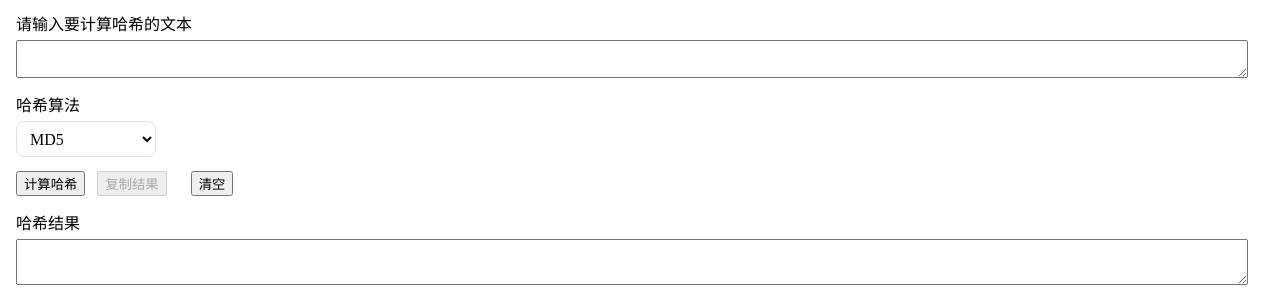
Scenario: developer and text tools › calculates a standard HMAC-MD5 vector
Type "abc" into the text box labelled "请输入要计算哈希的文本". click: (632, 59)
box: [16,40,1248,78]
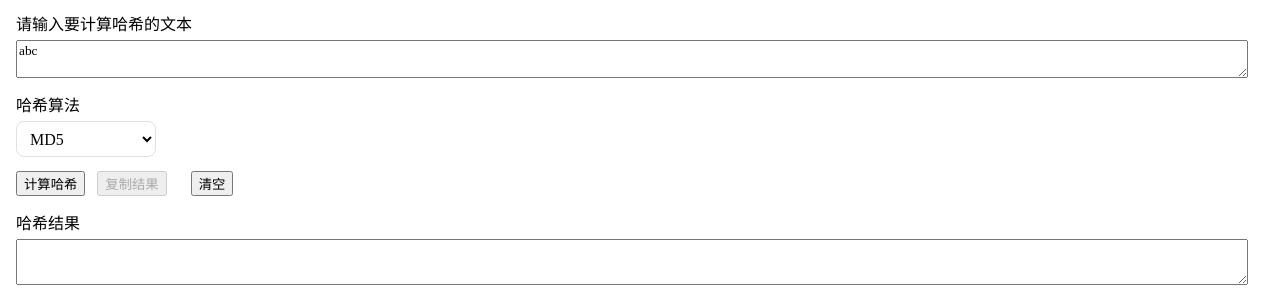
Click the button "计算哈希". click: (51, 184)
box: [16,171,85,196]
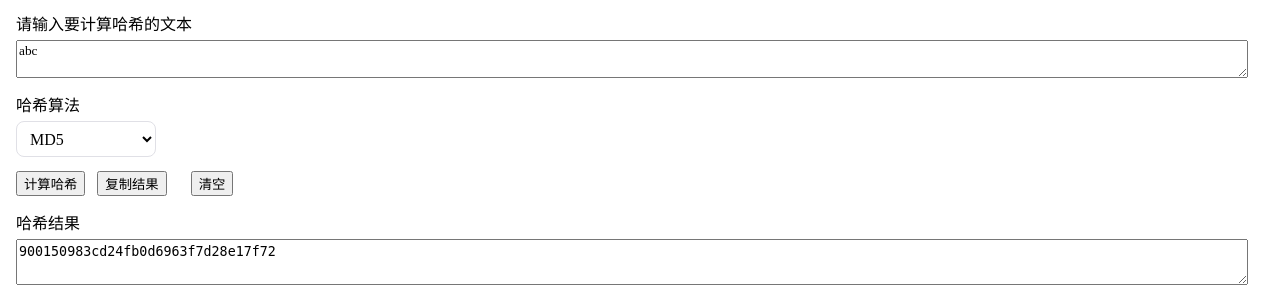
expect the text box labelled "哈希结果" holds "900150983cd24fb0d6963f7d28e17f72": met, box [16,239,1248,285]
